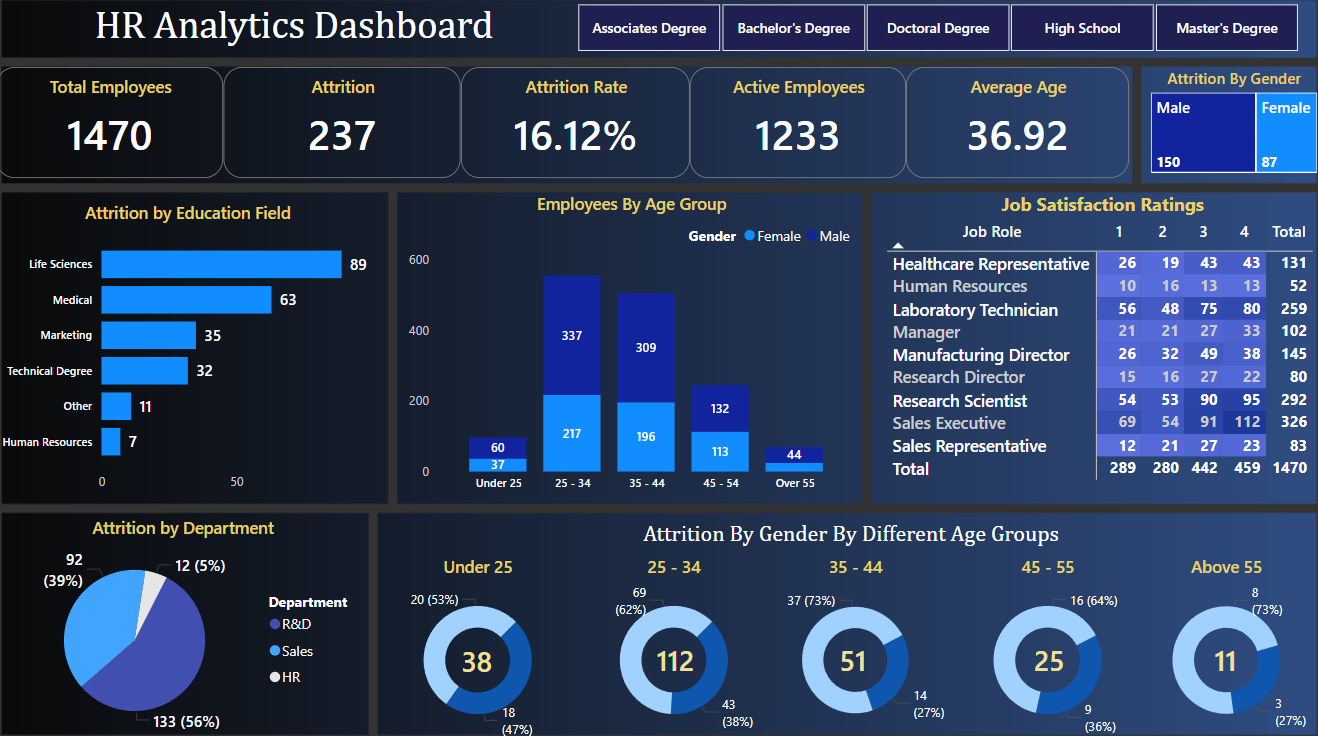

Layout of this report page (visuals, bound fields, positions):
{"tool":"powerbi","page":{"name":"HR Analytics Dashboard","canvas":[1280,720],"ordinal":0},"visuals":[{"type":"card","title":"Total Employees","fields":{"Values":["Sum(HR data.Employee Count)"]},"box":[0,67.2,219.6,107],"z":0},{"type":"card","title":"Attrition","fields":{"Values":["Sum(HR data.Attrition Count)"]},"box":[219.6,67.2,229.2,107],"z":1000},{"type":"card","title":"Attrition Rate","fields":{"Values":["HR data.Attrition Rate"]},"box":[448.7,67.2,220.9,107],"z":2000},{"type":"card","title":"Active Employees","fields":{"Values":["HR data.Active Employees"]},"box":[669.6,67.2,208.6,107],"z":3000},{"type":"card","title":"Average Age","fields":{"Values":["Avg(HR data.Age)"]},"box":[878.2,67.2,215.4,107],"z":4000},{"type":"textbox","box":[0,0,575,59],"z":5000},{"type":"pieChart","title":"Attrition by Department","fields":{"Y":["Sum(HR data.Attrition Count)"],"Category":["HR data.Department"]},"box":[0,500.9,360.9,219.6],"z":6000},{"type":"columnChart","title":"Employees By Age Group","fields":{"Category":["HR data.CF_age band"],"Y":["Sum(HR data.Employee Count)"],"Series":["HR data.Gender"]},"box":[393.8,188,440.5,297.8],"z":7000},{"type":"pivotTable","title":"Job Satisfaction Ratings","fields":{"Rows":["HR data.Job Role"],"Columns":["HR data.Job Satisfaction"],"Values":["Sum(HR data.Employee Count)"]},"box":[854.9,188,425.4,303.3],"z":8000},{"type":"barChart","title":"Attrition by Education Field","fields":{"Y":["Sum(HR data.Attrition Count)"],"Category":["HR data.Education Field"]},"box":[0,196.2,370.5,289.5],"z":9000},{"type":"donutChart","title":"Under 25","fields":{"Category":["HR data.Gender"],"Y":["Sum(HR data.Attrition Count)"],"Series":["HR data.CF_age band"]},"box":[370.5,537.9,189.4,182.5],"z":10000},{"type":"textbox","box":[370.5,500.9,909.8,37],"z":11000},{"type":"donutChart","title":"25 - 34","fields":{"Category":["HR data.Gender"],"Y":["Sum(HR data.Attrition Count)"],"Series":["HR data.CF_age band"]},"box":[559.9,537.9,189.4,182.5],"z":12000},{"type":"donutChart","title":"35 - 44","fields":{"Category":["HR data.Gender"],"Y":["Sum(HR data.Attrition Count)"],"Series":["HR data.CF_age band"]},"box":[738.3,537.9,182.5,182.5],"z":13000},{"type":"donutChart","title":"45 - 55","fields":{"Category":["HR data.Gender"],"Y":["Sum(HR data.Attrition Count)"],"Series":["HR data.CF_age band"]},"box":[920.8,537.9,189.4,182.5],"z":14000},{"type":"donutChart","title":"Above 55","fields":{"Category":["HR data.Gender"],"Y":["Sum(HR data.Attrition Count)"],"Series":["HR data.CF_age band"]},"box":[1093.7,537.9,186.6,182.5],"z":15000},{"type":"card","fields":{"Values":["Sum(HR data.Attrition Count)"]},"box":[393.8,610.6,141.3,64.5],"z":16000},{"type":"card","fields":{"Values":["Sum(HR data.Attrition Count)"]},"box":[584.6,609.3,141.3,64.5],"z":17000},{"type":"card","fields":{"Values":["Sum(HR data.Attrition Count)"]},"box":[756.1,609.3,141.3,64.5],"z":18000},{"type":"card","fields":{"Values":["Sum(HR data.Attrition Count)"]},"box":[945.5,609.3,141.3,64.5],"z":19000},{"type":"card","fields":{"Values":["Sum(HR data.Attrition Count)"]},"box":[1115.6,609.3,141.3,64.5],"z":20000},{"type":"slicer","fields":{"Values":["HR data.Education"]},"box":[535.2,0,745.1,59],"z":21000},{"type":"treemap","title":"Attrition By Gender","fields":{"Group":["HR data.Gender"],"Values":["Sum(HR data.Attrition Count)"]},"box":[1110.1,67.2,170.2,107],"z":22000}]}

Visuals, with their boxes in screenshot pixels (x1, y1, x2, y2), scaled from the page's 1280x720 canvas onto the 1318x736 screenshot:
"Total Employees" card: {"x1": 0, "y1": 69, "x2": 226, "y2": 178}
"Attrition" card: {"x1": 226, "y1": 69, "x2": 462, "y2": 178}
"Attrition Rate" card: {"x1": 462, "y1": 69, "x2": 689, "y2": 178}
"Active Employees" card: {"x1": 689, "y1": 69, "x2": 904, "y2": 178}
"Average Age" card: {"x1": 904, "y1": 69, "x2": 1126, "y2": 178}
textbox: {"x1": 0, "y1": 0, "x2": 592, "y2": 60}
"Attrition by Department" pieChart: {"x1": 0, "y1": 512, "x2": 372, "y2": 735}
"Employees By Age Group" columnChart: {"x1": 405, "y1": 192, "x2": 859, "y2": 497}
"Job Satisfaction Ratings" pivotTable: {"x1": 880, "y1": 192, "x2": 1317, "y2": 502}
"Attrition by Education Field" barChart: {"x1": 0, "y1": 201, "x2": 381, "y2": 496}
"Under 25" donutChart: {"x1": 381, "y1": 550, "x2": 577, "y2": 735}
textbox: {"x1": 381, "y1": 512, "x2": 1317, "y2": 550}
"25 - 34" donutChart: {"x1": 577, "y1": 550, "x2": 772, "y2": 735}
"35 - 44" donutChart: {"x1": 760, "y1": 550, "x2": 948, "y2": 735}
"45 - 55" donutChart: {"x1": 948, "y1": 550, "x2": 1143, "y2": 735}
"Above 55" donutChart: {"x1": 1126, "y1": 550, "x2": 1317, "y2": 735}
card - Sum(HR data.Attrition Count): {"x1": 405, "y1": 624, "x2": 551, "y2": 690}
card - Sum(HR data.Attrition Count): {"x1": 602, "y1": 623, "x2": 747, "y2": 689}
card - Sum(HR data.Attrition Count): {"x1": 779, "y1": 623, "x2": 924, "y2": 689}
card - Sum(HR data.Attrition Count): {"x1": 974, "y1": 623, "x2": 1119, "y2": 689}
card - Sum(HR data.Attrition Count): {"x1": 1149, "y1": 623, "x2": 1294, "y2": 689}
slicer - HR data.Education: {"x1": 551, "y1": 0, "x2": 1317, "y2": 60}
"Attrition By Gender" treemap: {"x1": 1143, "y1": 69, "x2": 1317, "y2": 178}
